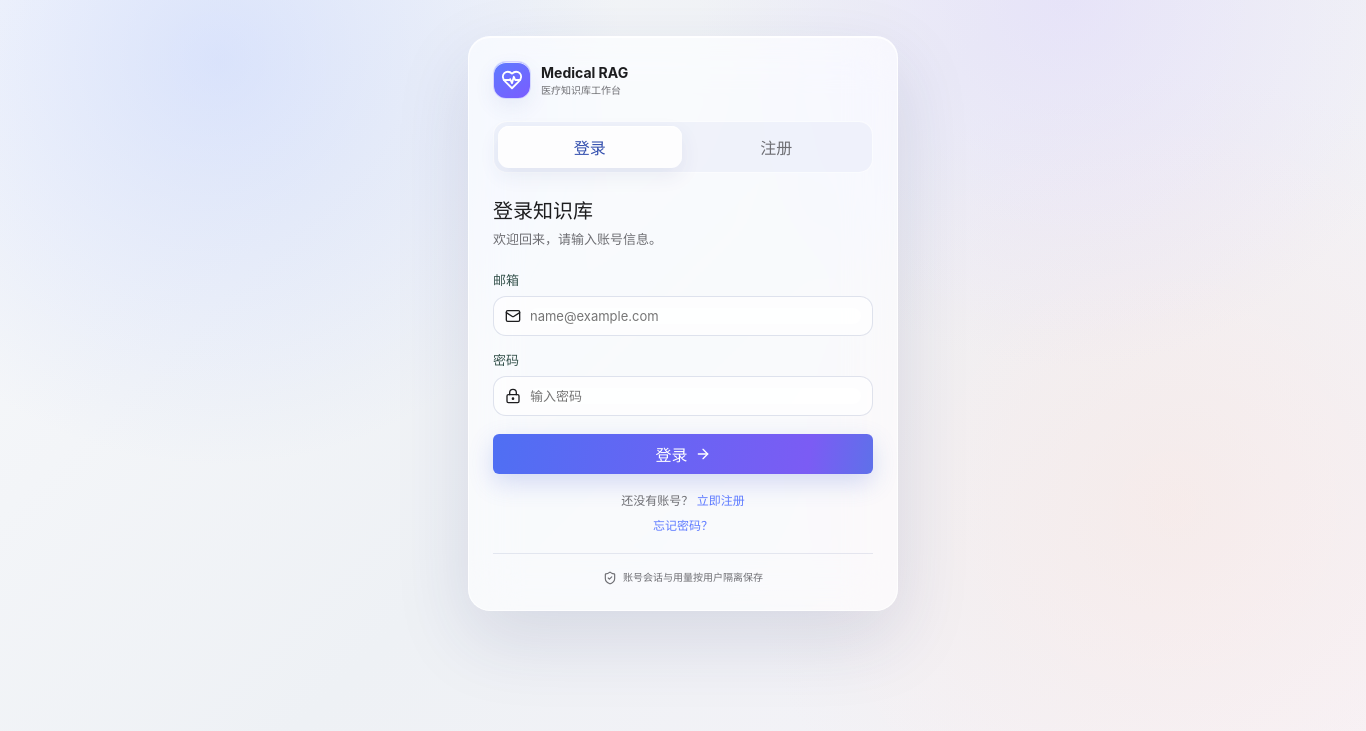
Test: 前端认证流程 › 注册时会在提交前拦截两次密码不一致
Click the tab "注册": (776, 147) [684, 126, 868, 168]
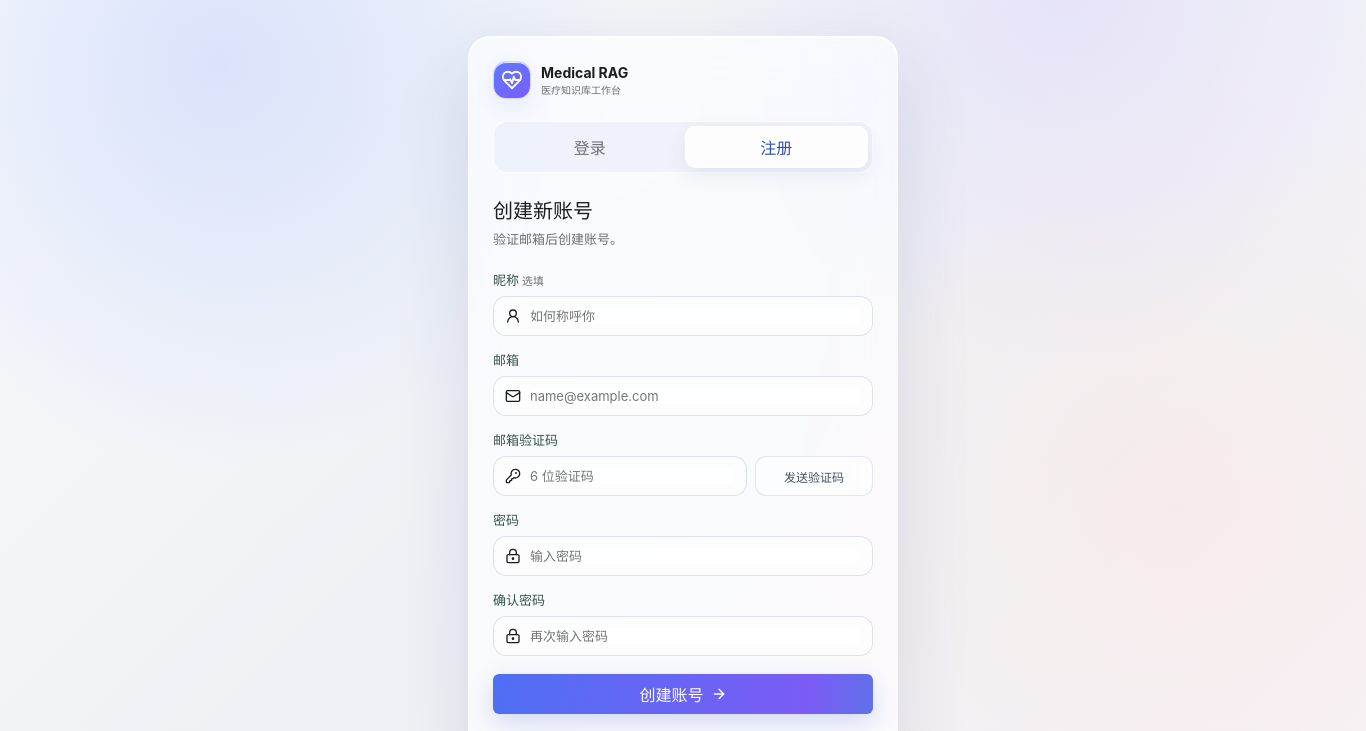
In the field labelled "邮箱": (696, 396) [530, 388, 861, 404], type "new@example.com"
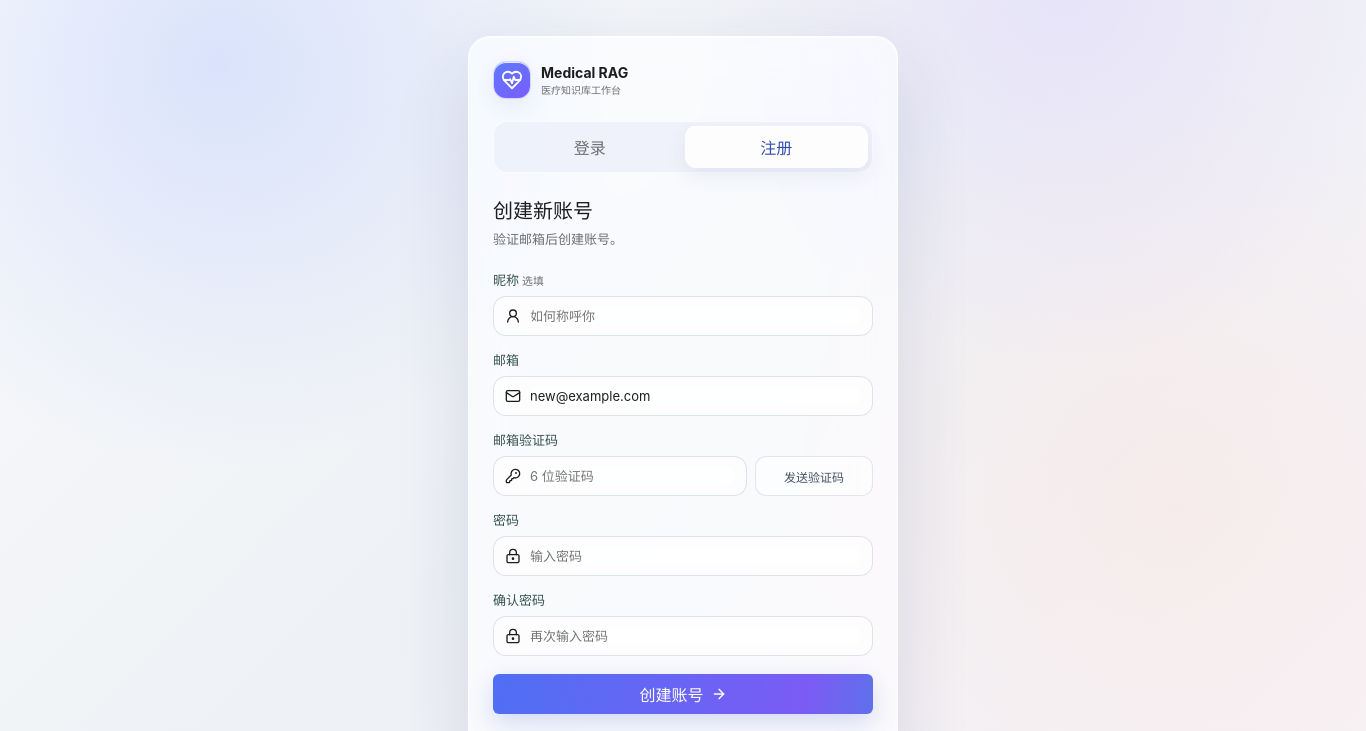
In the password field labelled "密码": (696, 556) [530, 548, 861, 564], type "password123"
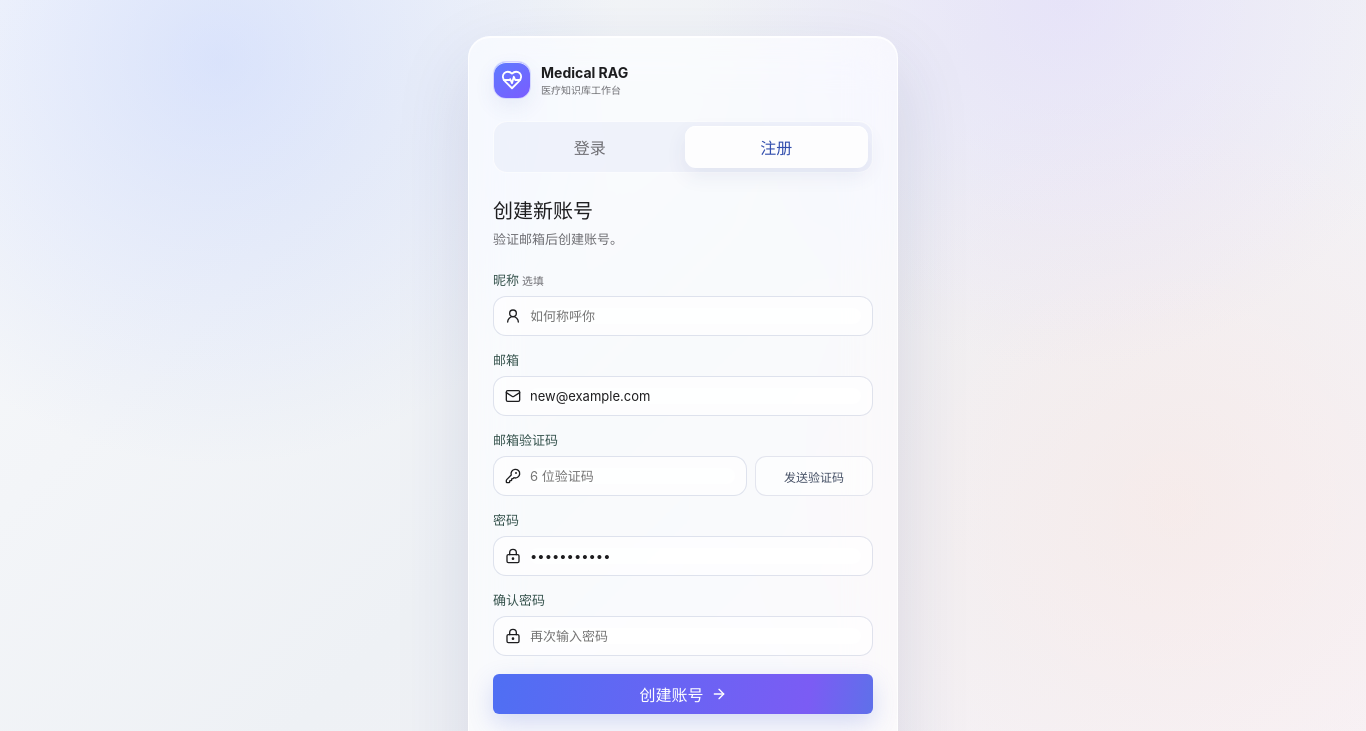
In the password field labelled "确认密码": (696, 636) [530, 628, 861, 644], type "password456"
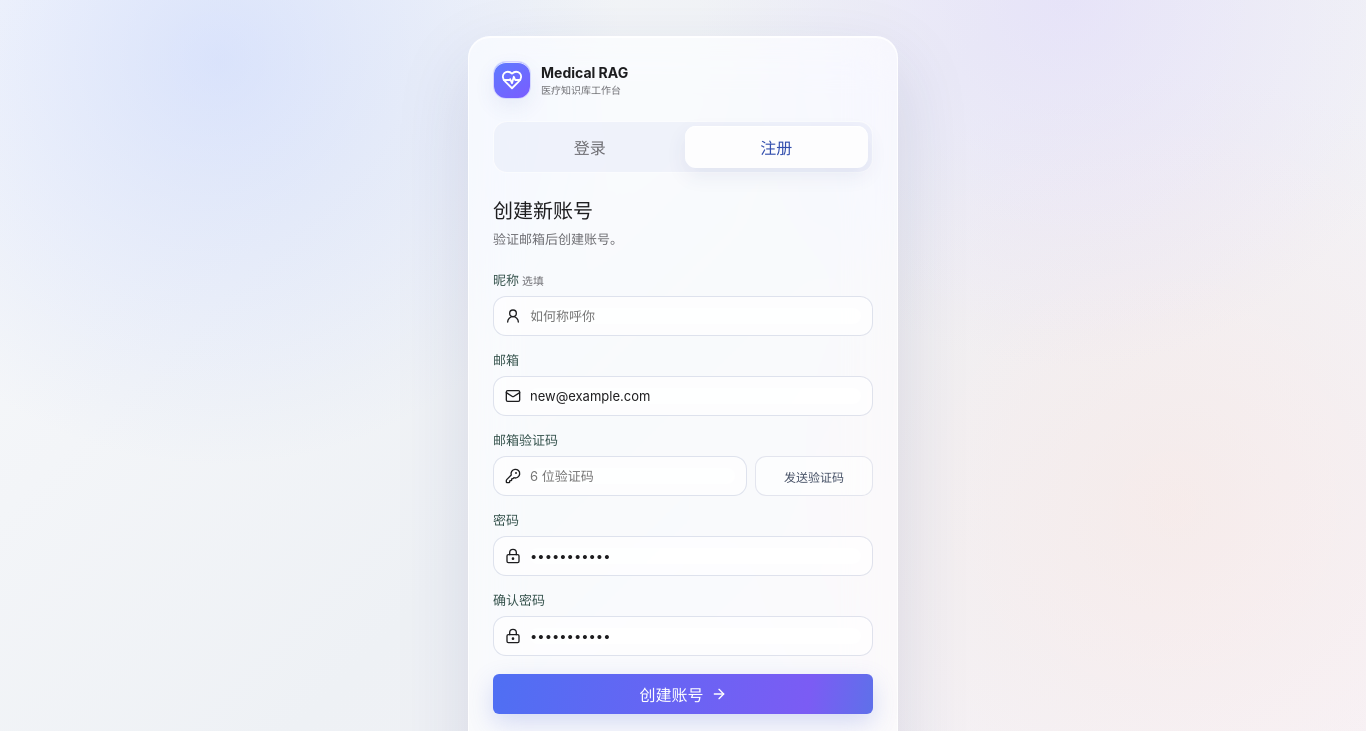
Submit the form, box [493, 270, 873, 714]
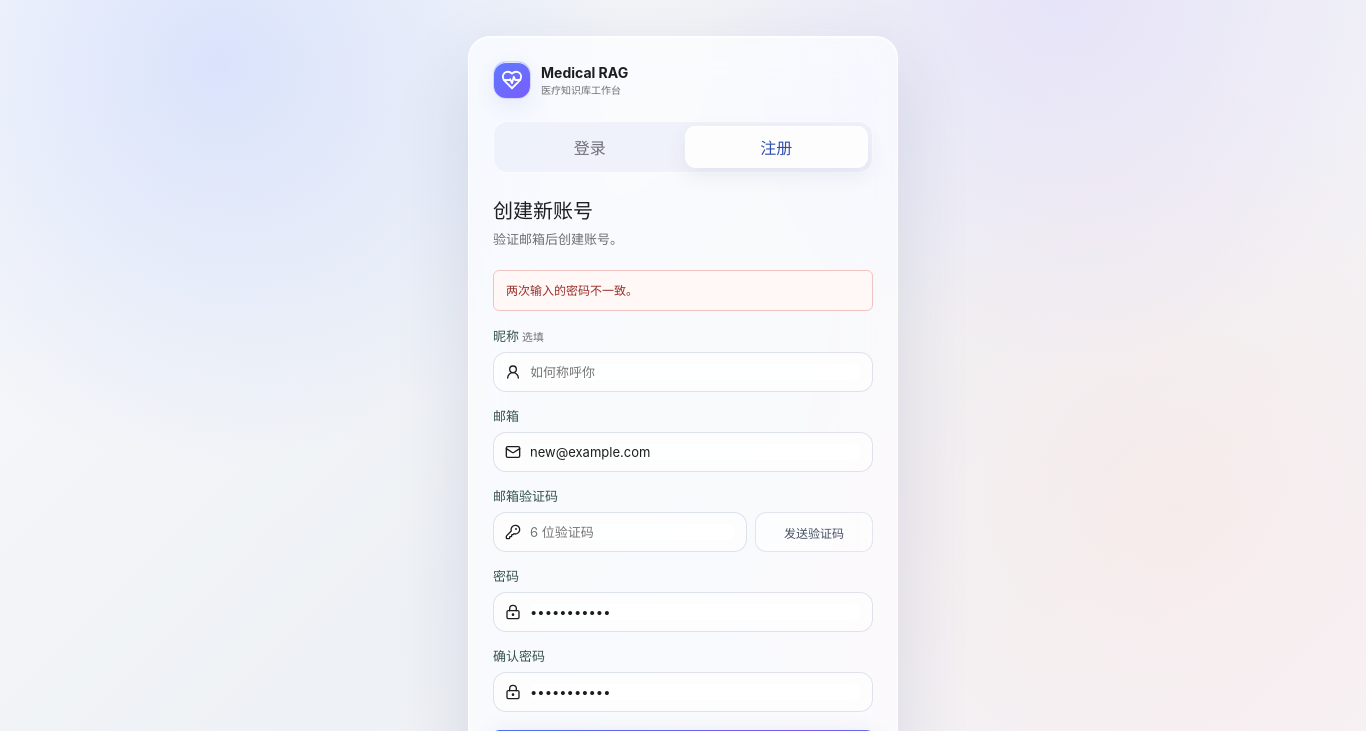
Result: the message "两次输入的密码不一致。" is shown at [493, 270, 873, 311]
